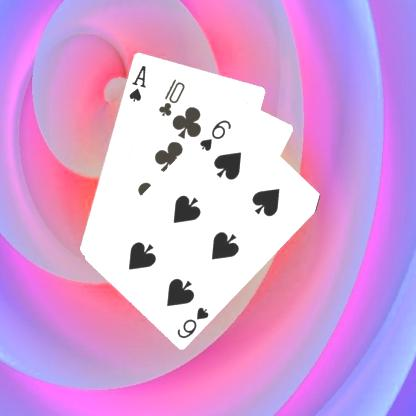10C: (155, 76, 186, 118)
6S: (196, 116, 232, 152), (174, 304, 210, 339)
AS: (126, 62, 147, 103)
